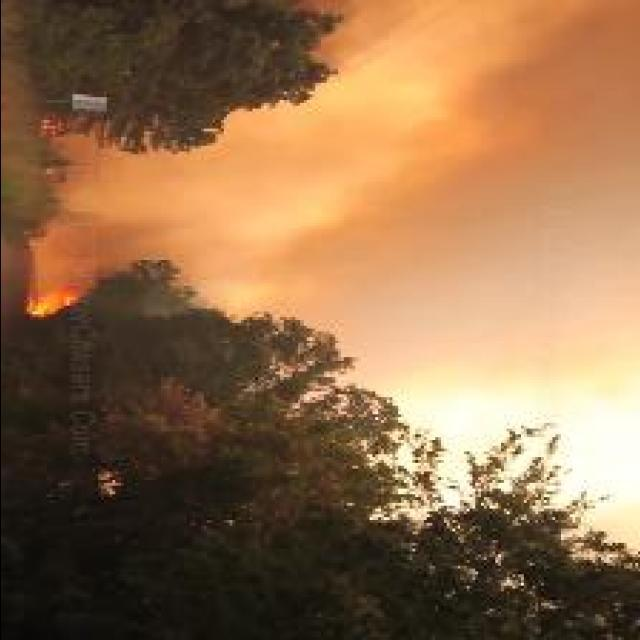Fire: (28, 290, 82, 318)
